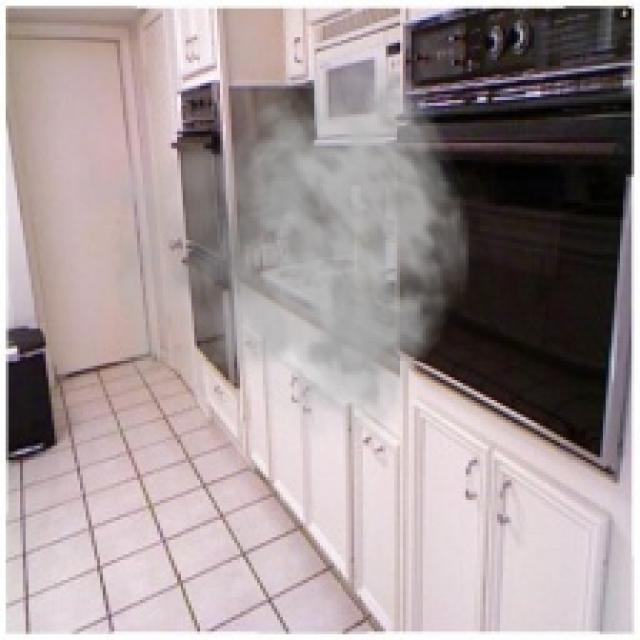smoke: (77, 43, 472, 463)
